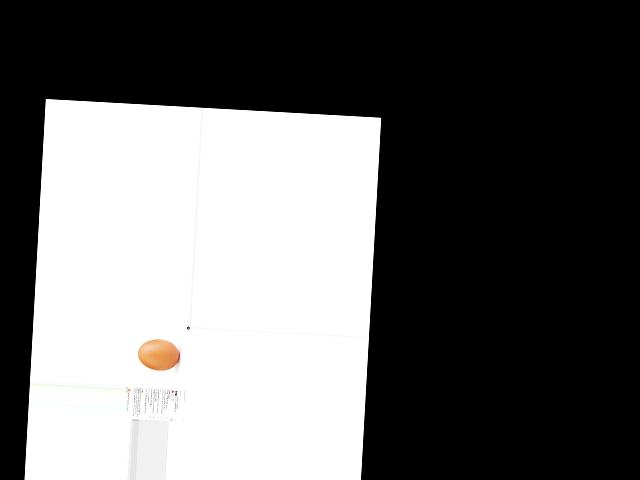egg: (137, 338, 180, 371)
